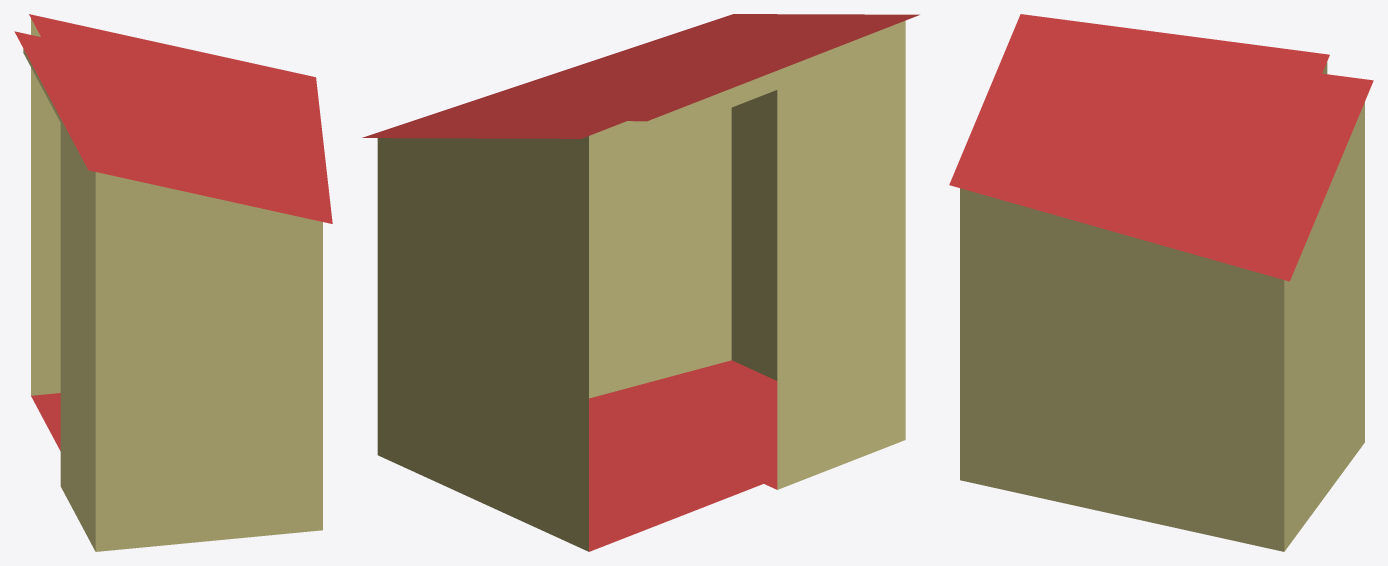
3 views of the same model, side by side, from view 1: azimuth 30°, elevation 25°; view 2: azimuth 150°, elevation 25°; view 3: azimuth 270°, elevation 25° (orthographic). The views are drawn at different scales.
Size of the model in its own units: 11.16 by 11.62 by 11.21.
